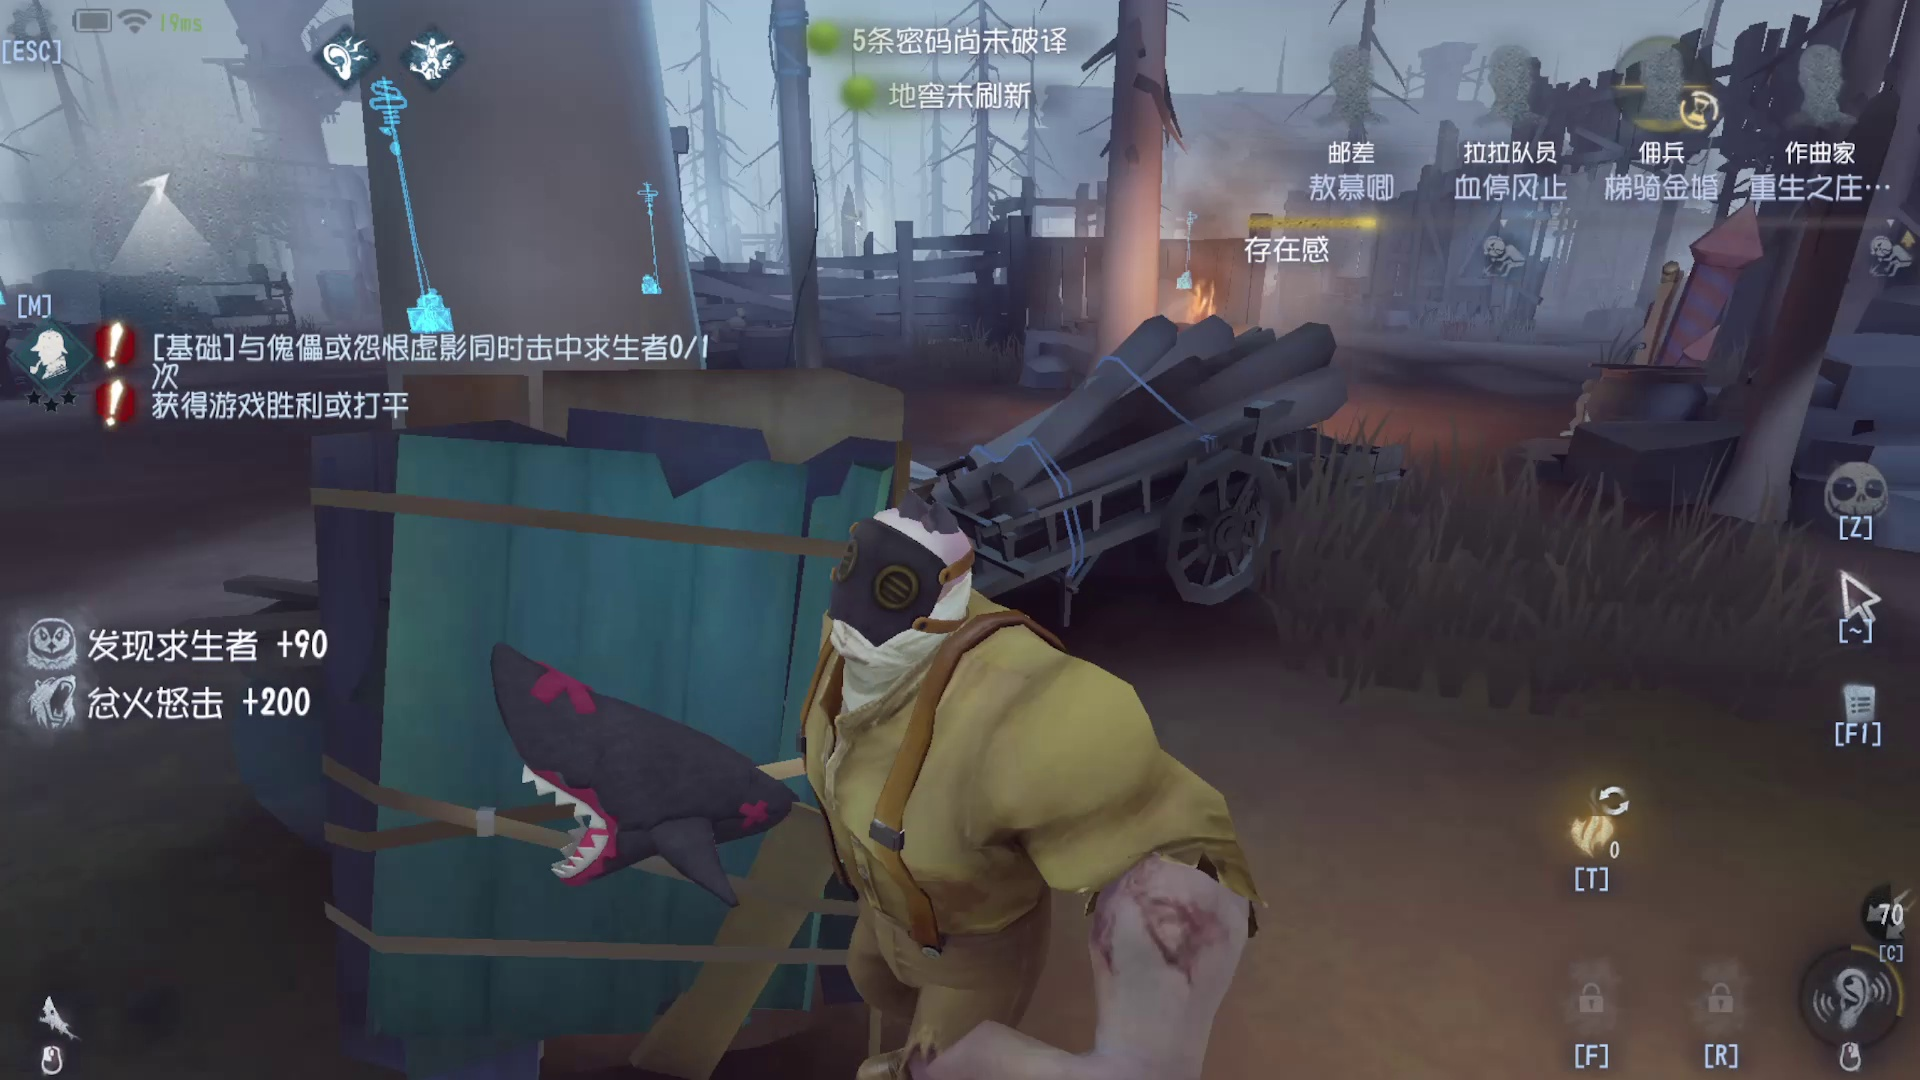密码机: (334, 65, 495, 367), (617, 150, 700, 315), (1168, 179, 1213, 301)
木板: (264, 343, 960, 1031)
狂欢之椅: (1592, 195, 1753, 465)
